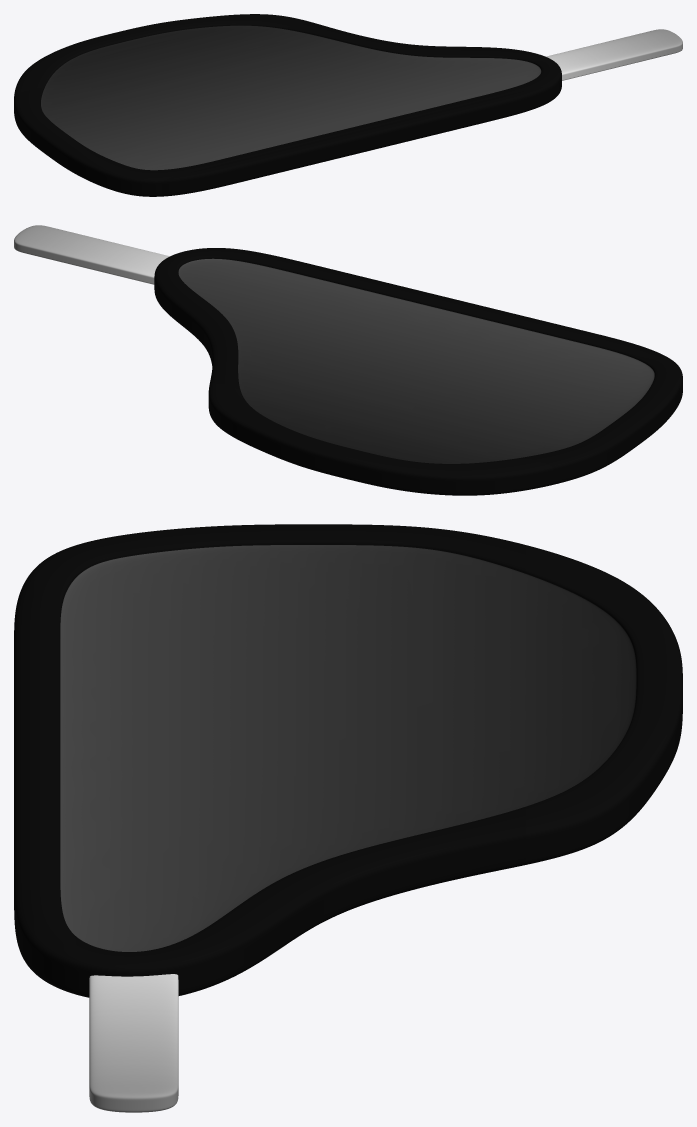
Rendered from HH_BurntPork.fbx.
The picture shows the model from 3 angles, top to bottom: view 1: azimuth 30°, elevation 25°; view 2: azimuth 150°, elevation 25°; view 3: azimuth 270°, elevation 25°; orthographic projection. The views are drawn at different scales.
Visible parts, largest first — view 1: Top.002, Bottom.002; view 2: Top.002, Bottom.002; view 3: Top.002, Bottom.002.
Part boxes in pixels (left/top/right/bottom): Top.002: left=14, top=14, right=682, bottom=188; Bottom.002: left=14, top=46, right=682, bottom=196; Top.002: left=14, top=225, right=682, bottom=486; Bottom.002: left=14, top=245, right=682, bottom=495; Top.002: left=14, top=524, right=682, bottom=1105; Bottom.002: left=14, top=704, right=682, bottom=1112.
Size of the model in its own units: 60 by 1.96 by 30.
1 material, 1 textured.
